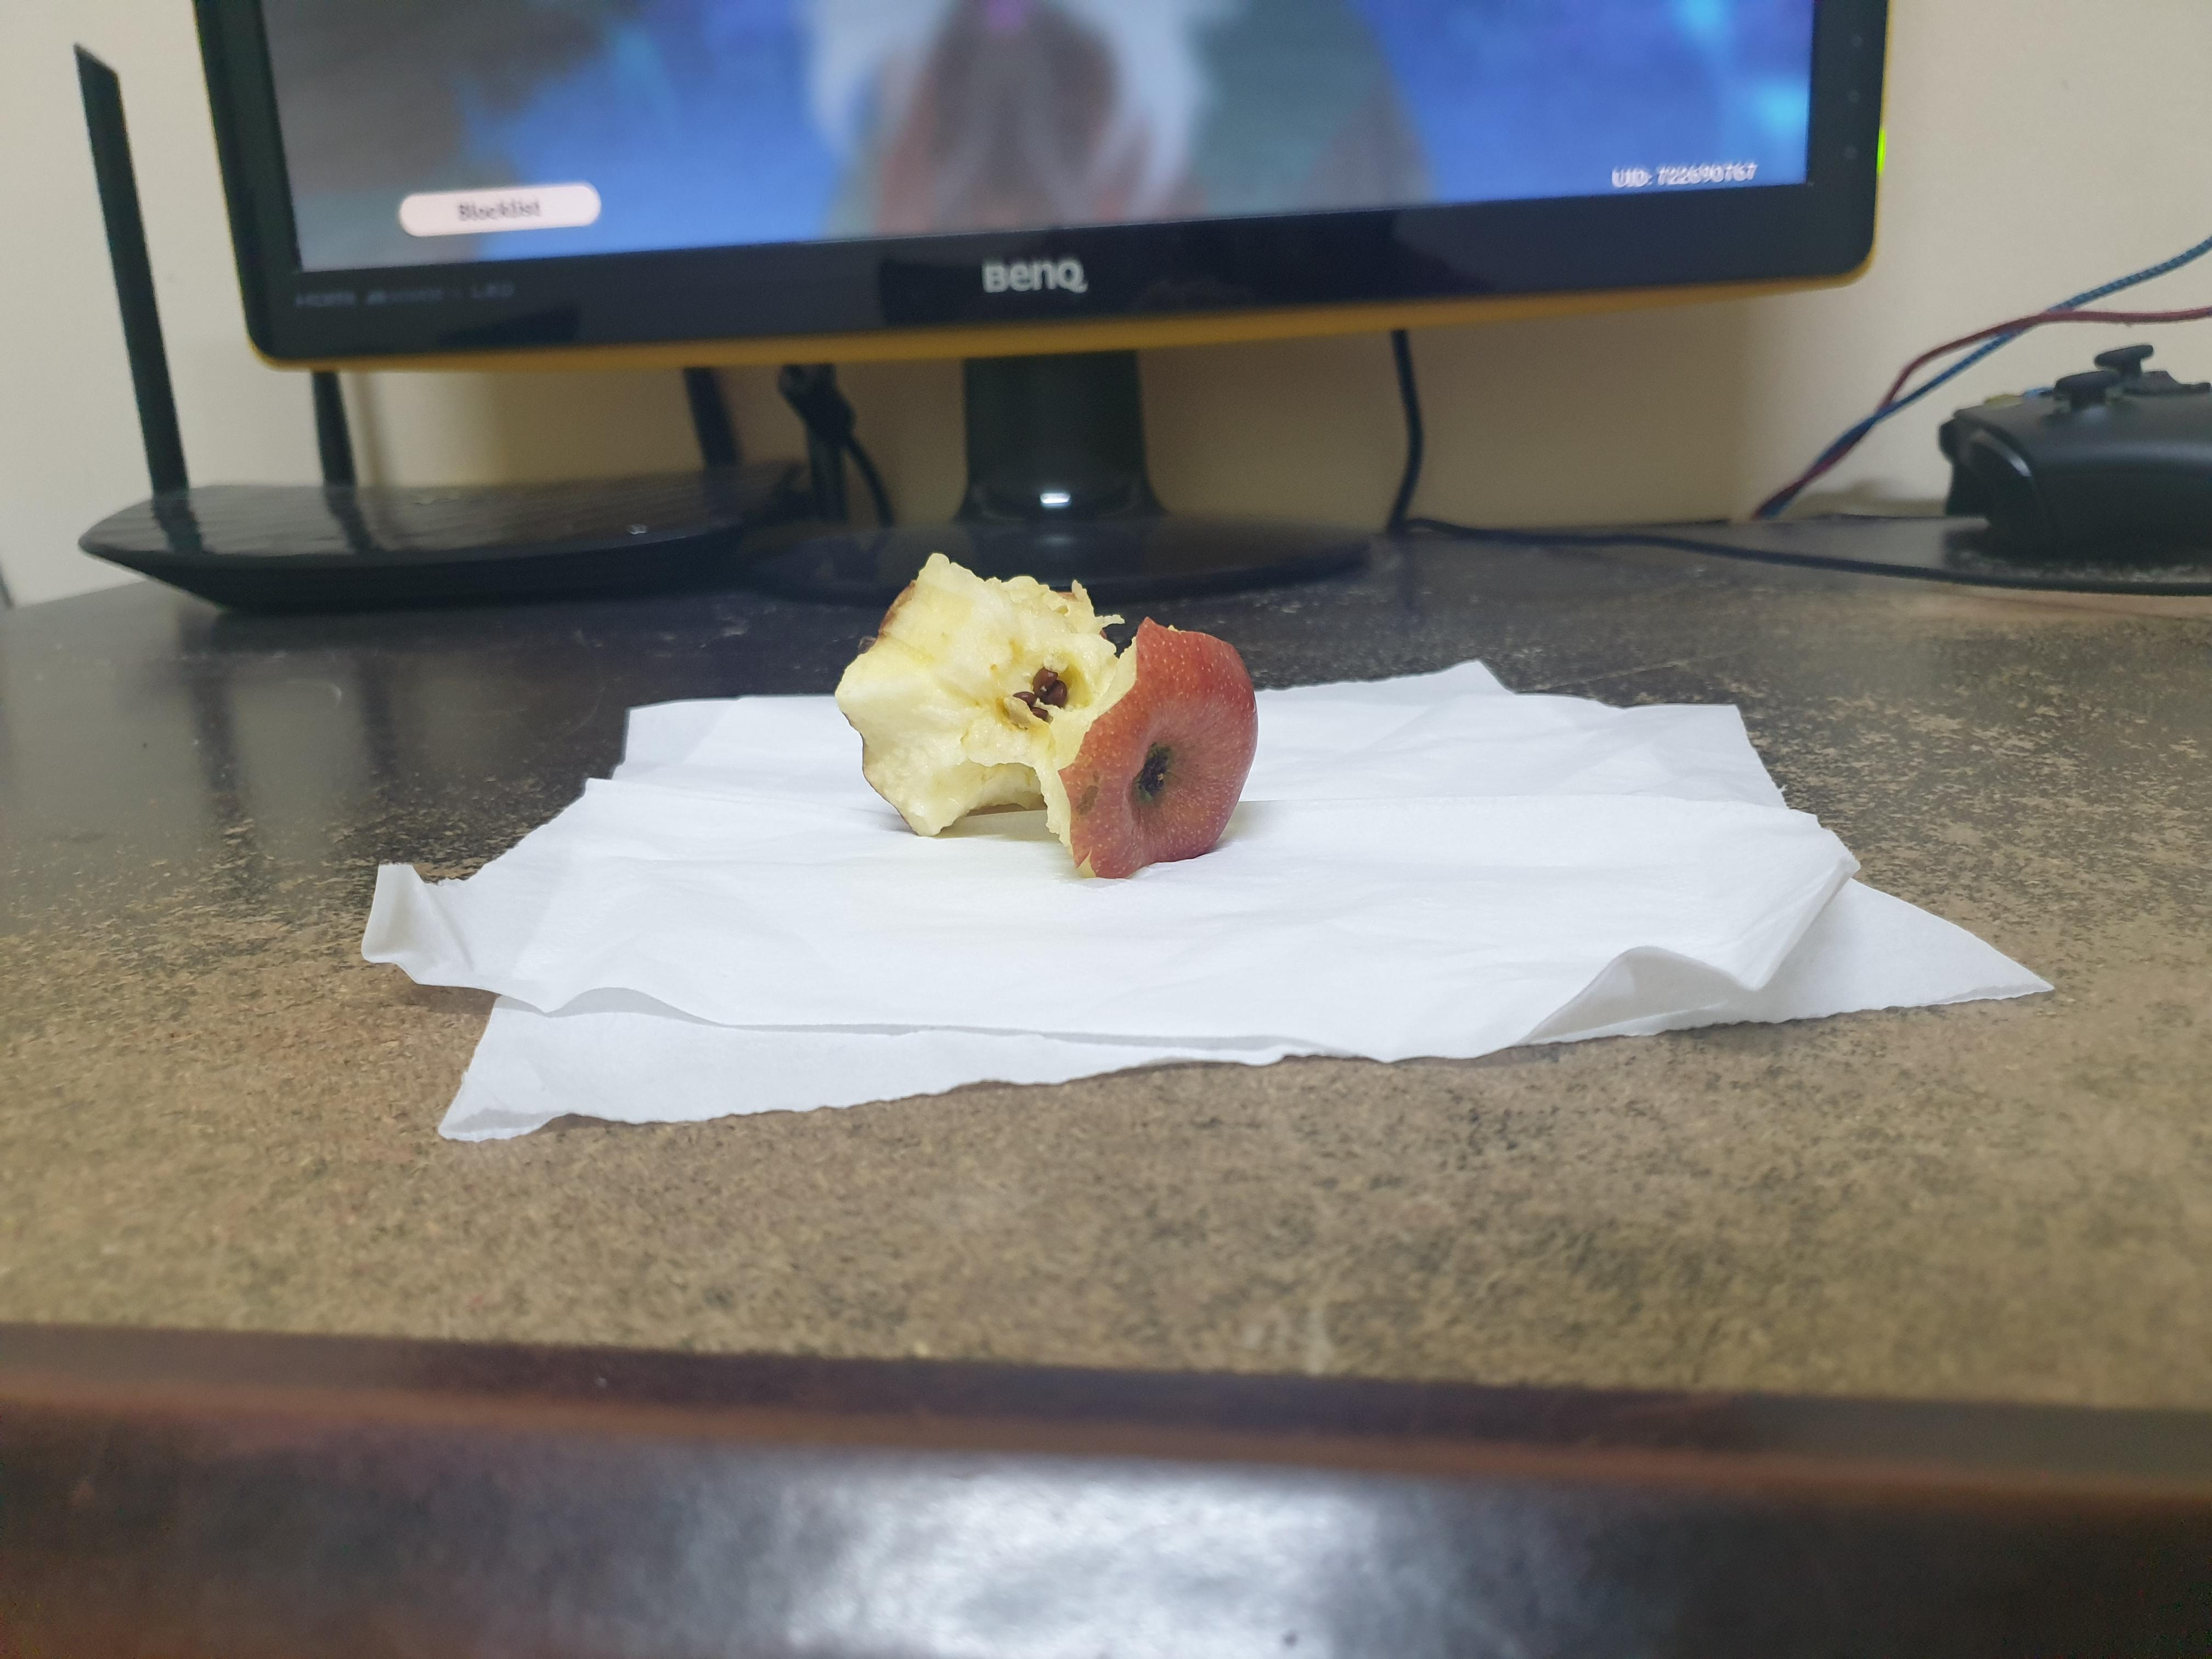Apple: (808, 528, 1318, 894)
